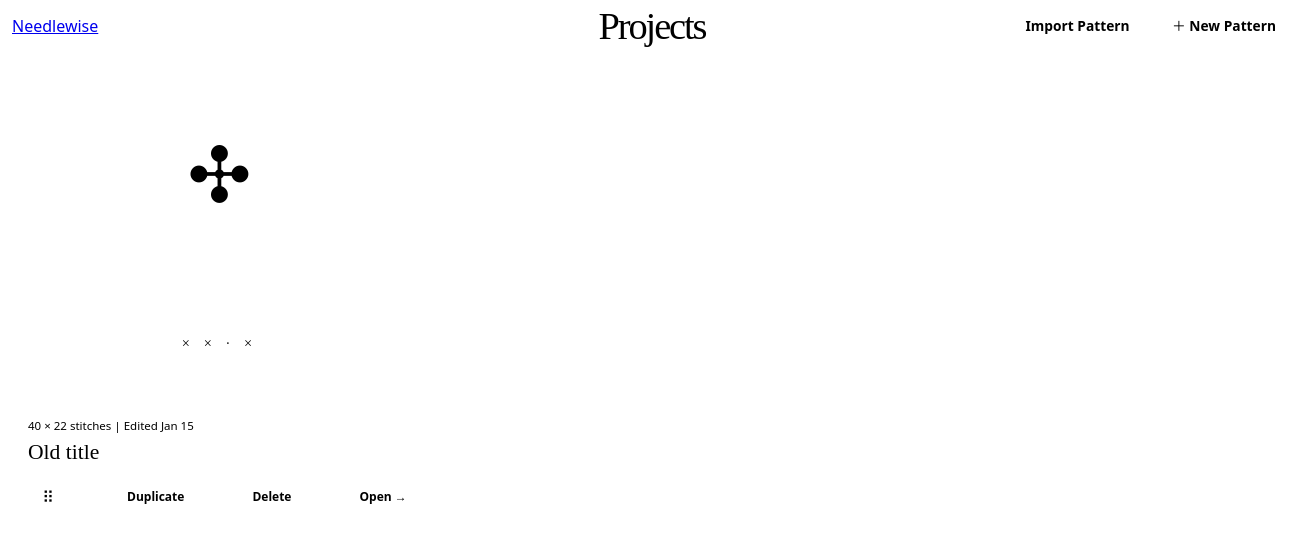
Test: ProjectGallery › inline title rename › shows an input when the title is clicked, without opening the pattern
Click the button with aria-label "Rename Old title". click: {"x": 64, "y": 453}
box: [28,440,99,466]
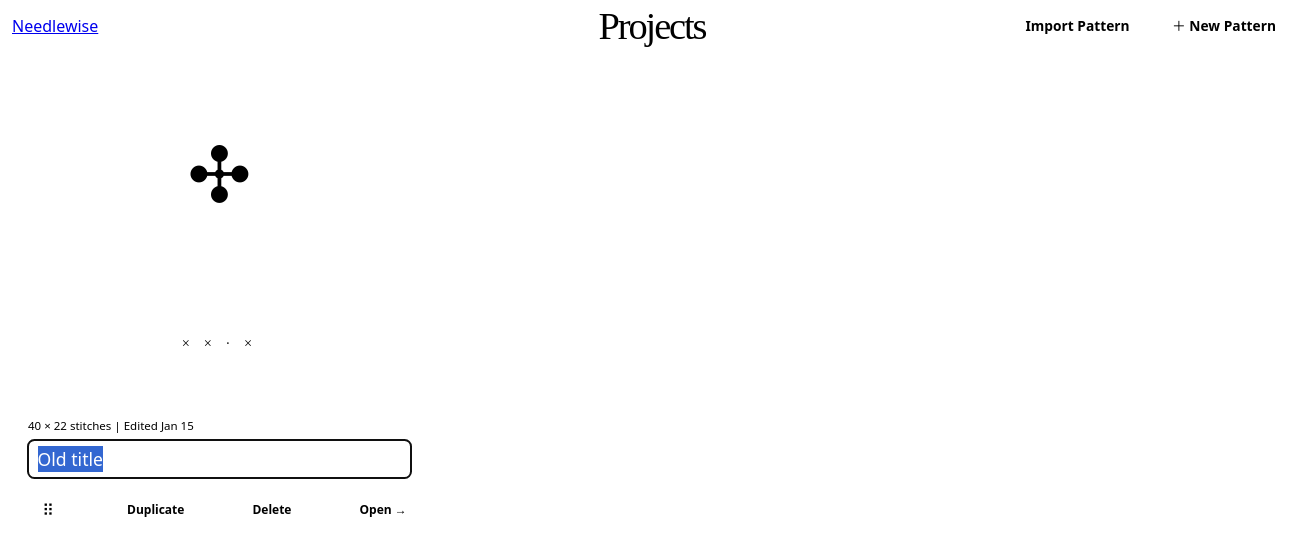
Expected: the field named "Rename pattern Old title" holds "Old title", [28,440,411,478]
